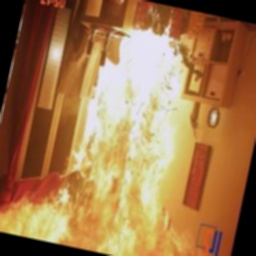fire: (32, 10, 225, 256)
